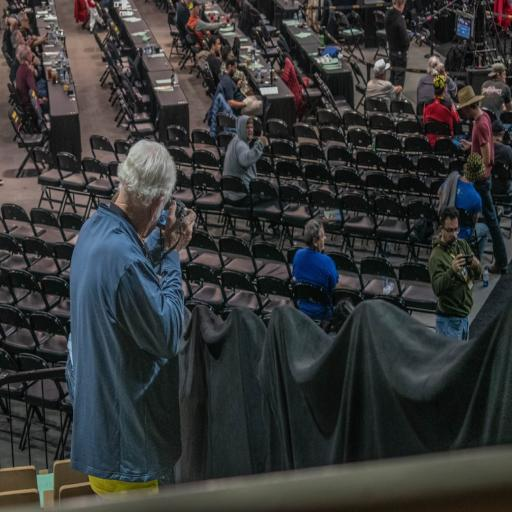face: (141, 195, 166, 237), (441, 219, 458, 244), (313, 227, 326, 252), (247, 119, 253, 141)
